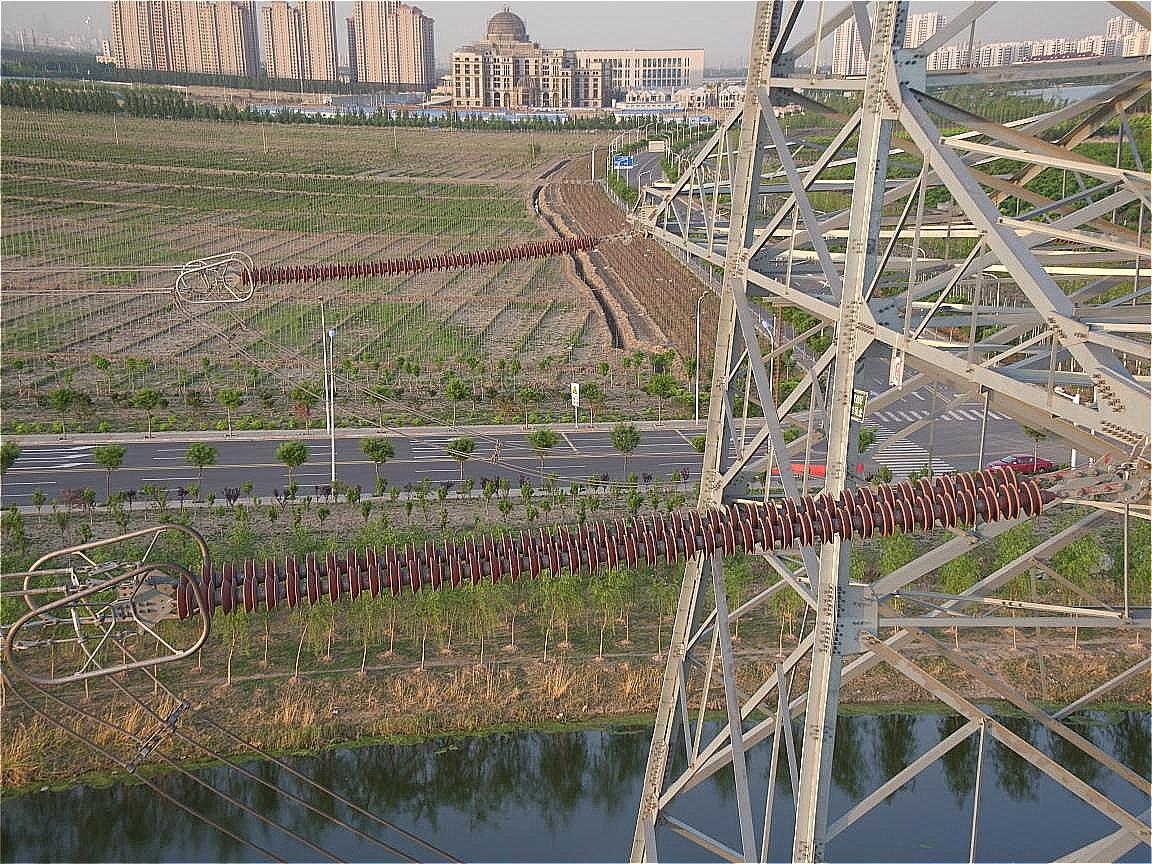insultor2: (172, 448, 1057, 628), (237, 232, 629, 290)
